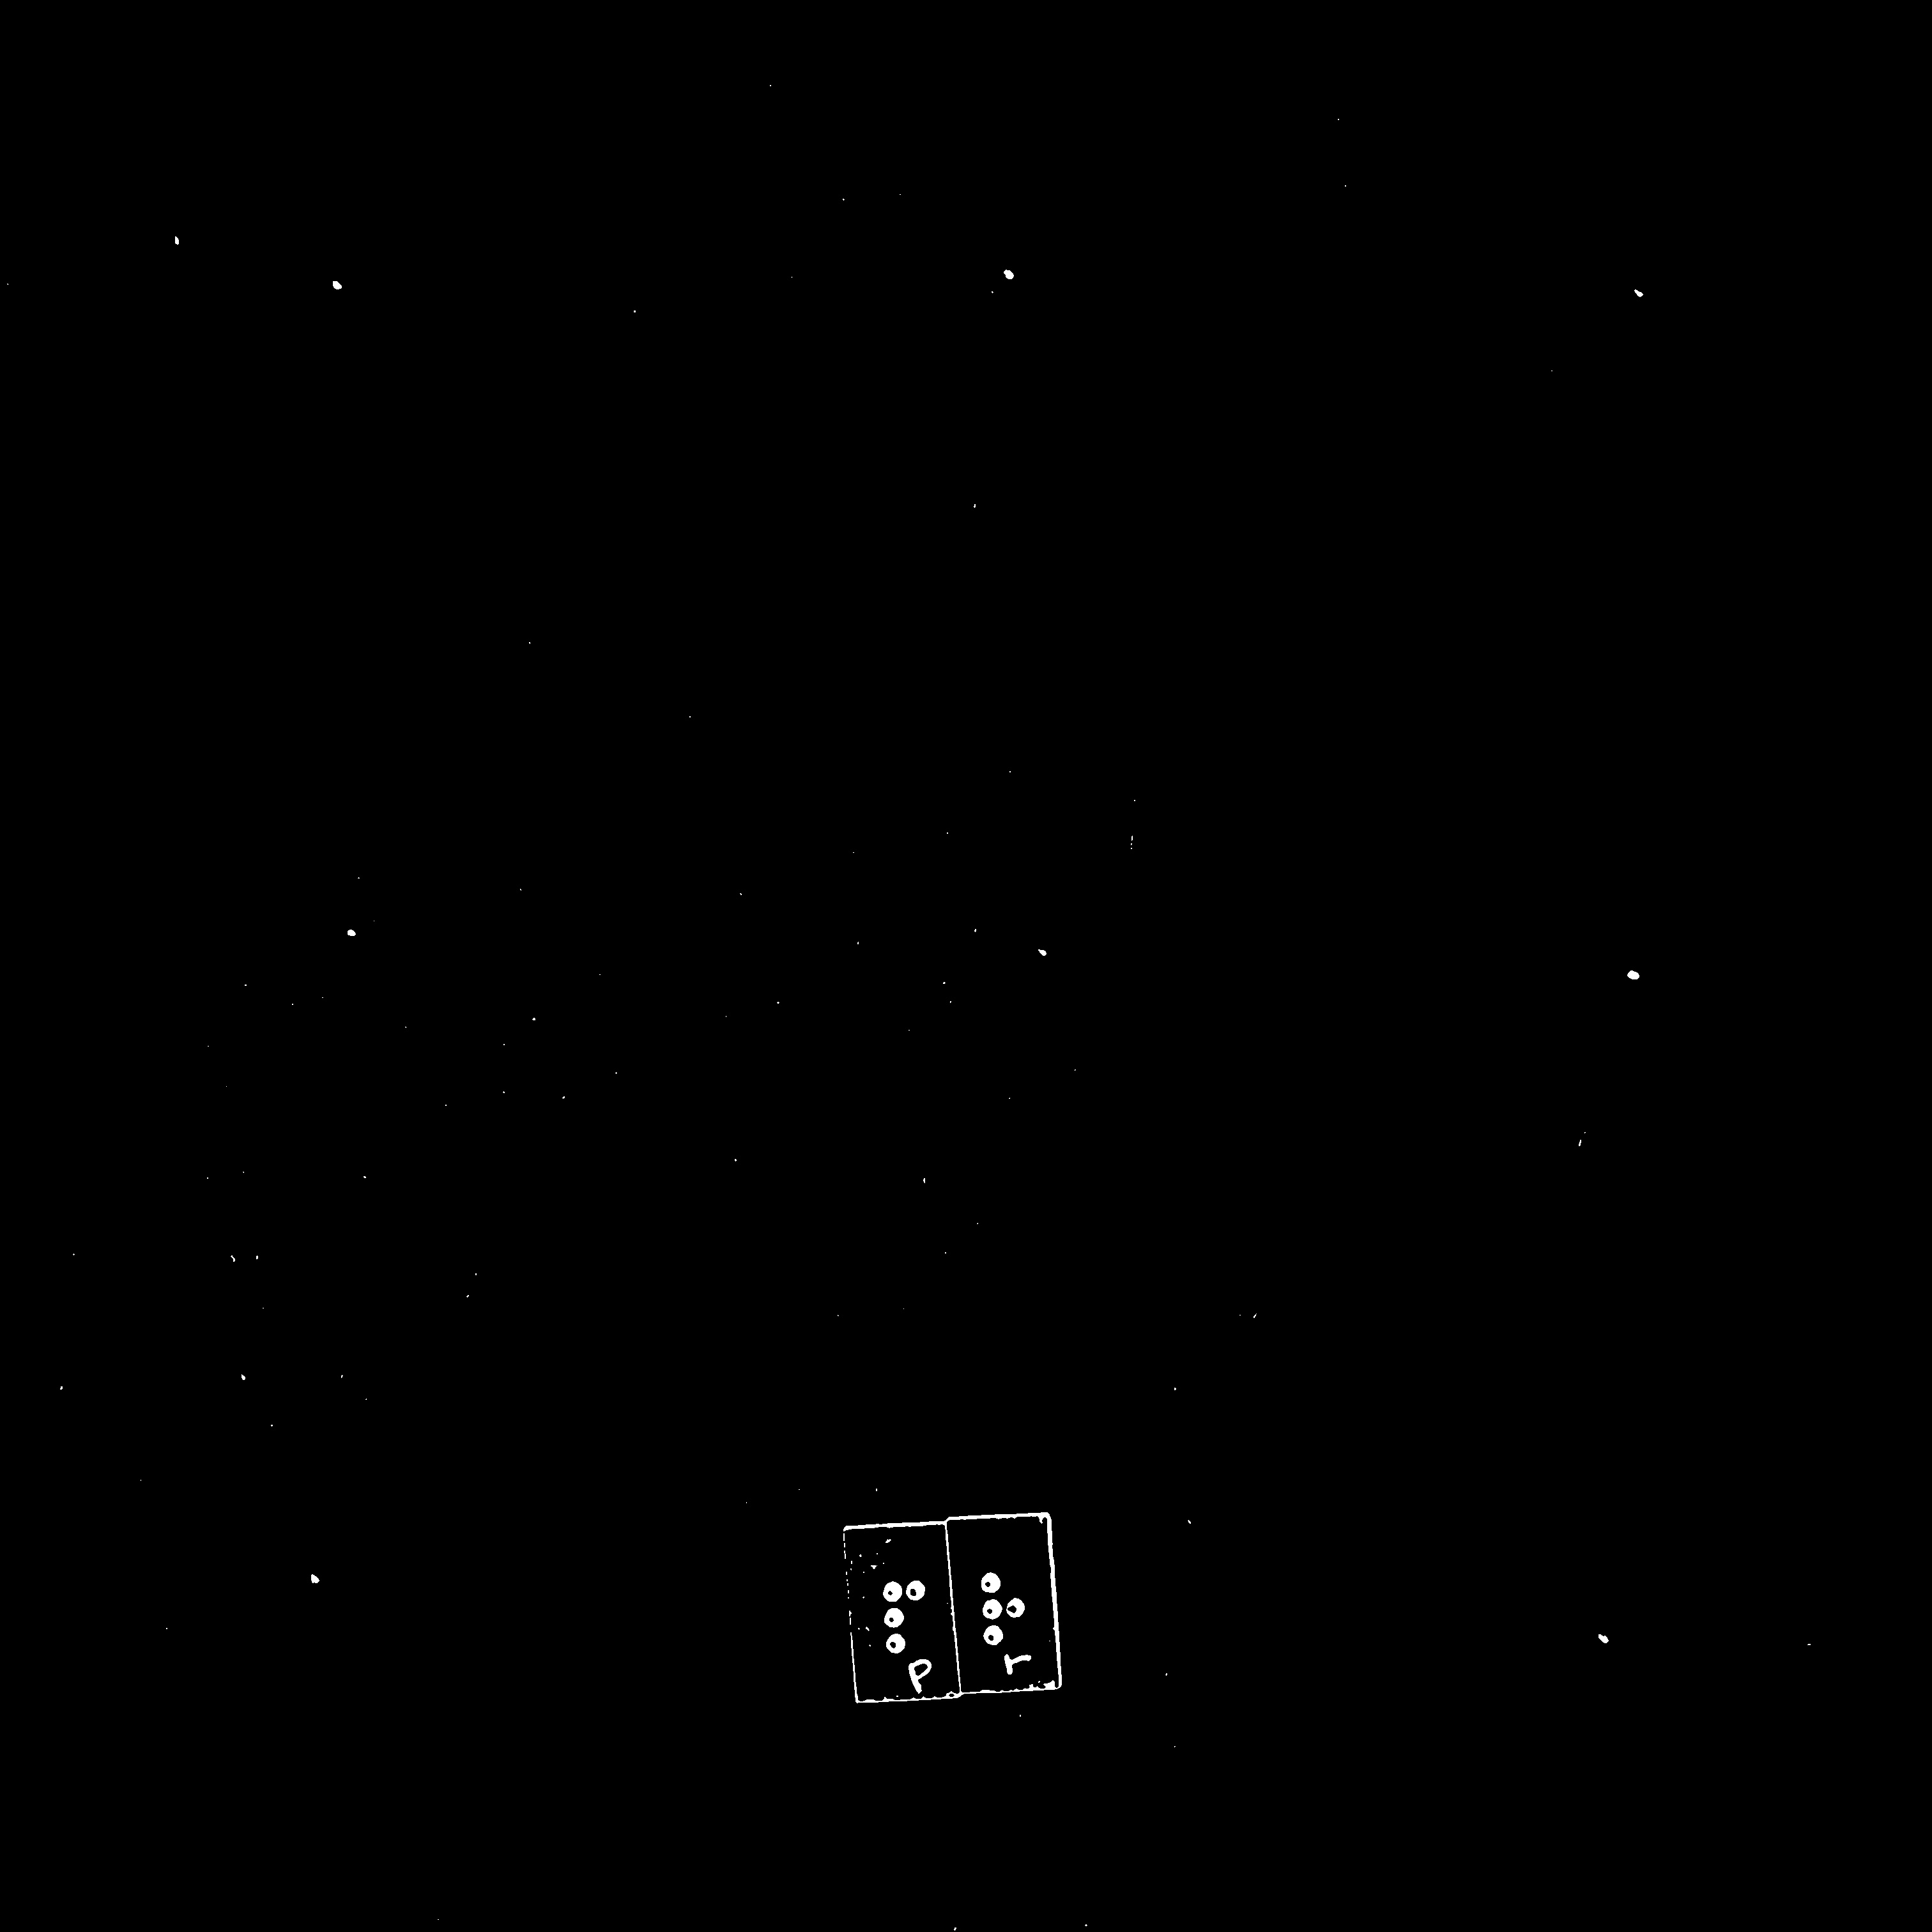p: (873, 1573, 937, 1657)
r: (976, 1562, 1034, 1648)
